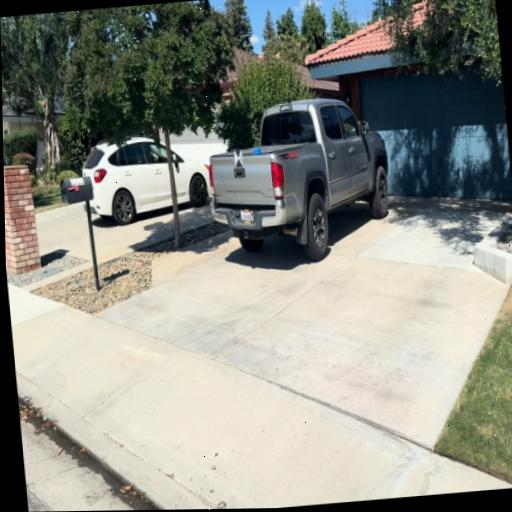target1: (234, 149, 243, 167)
